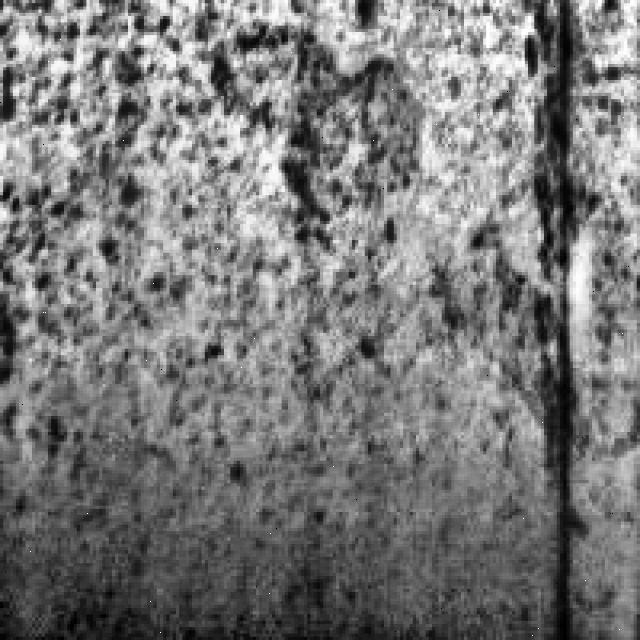Patches: (522, 35, 612, 630)
Rolled_in_Scale: (3, 12, 477, 612)
